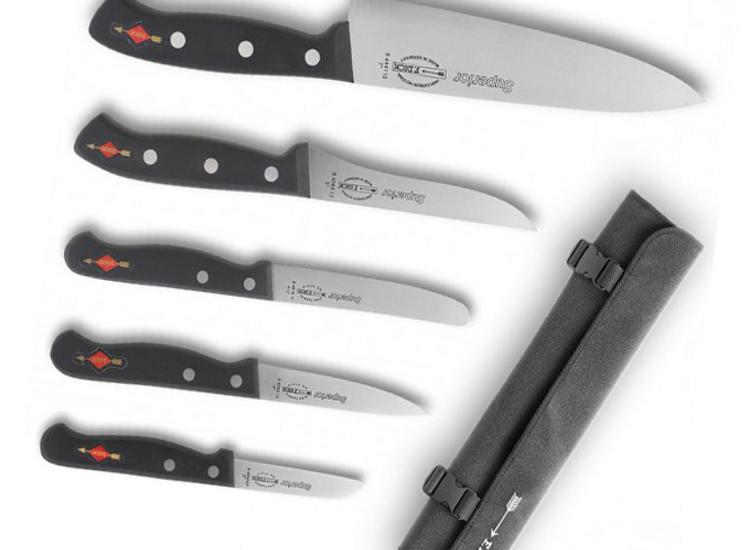knife: (84, 1, 703, 113), (72, 112, 542, 235), (67, 233, 474, 330), (52, 332, 432, 422), (40, 420, 365, 500)
